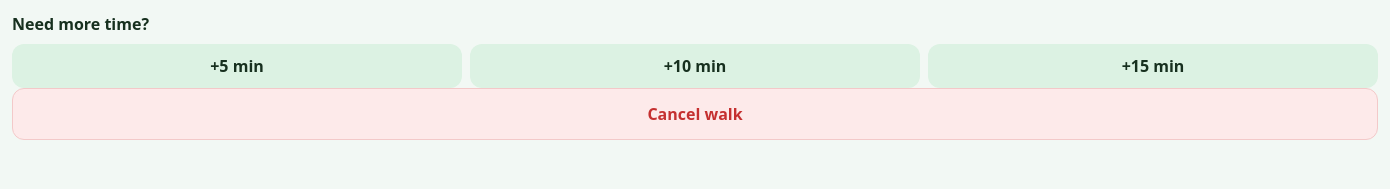
adding time says so when it fails, and the buttons work again
This screenshot has width=1390, height=189.
Step 1. Click the button with aria-label "Add 5 minutes" → (237, 66), box [12,44,462,88]
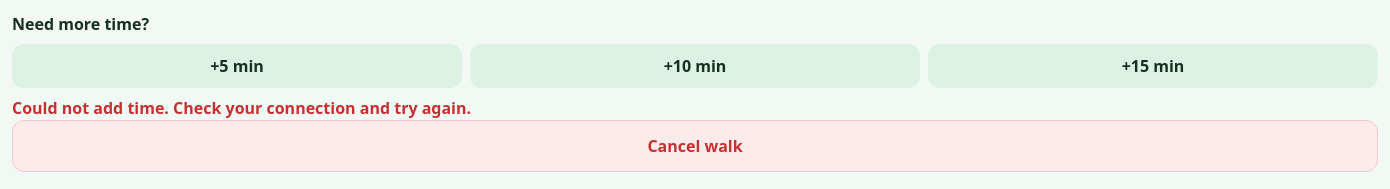
Now the message shows "Could not add time.", box [12,97,471,119]
